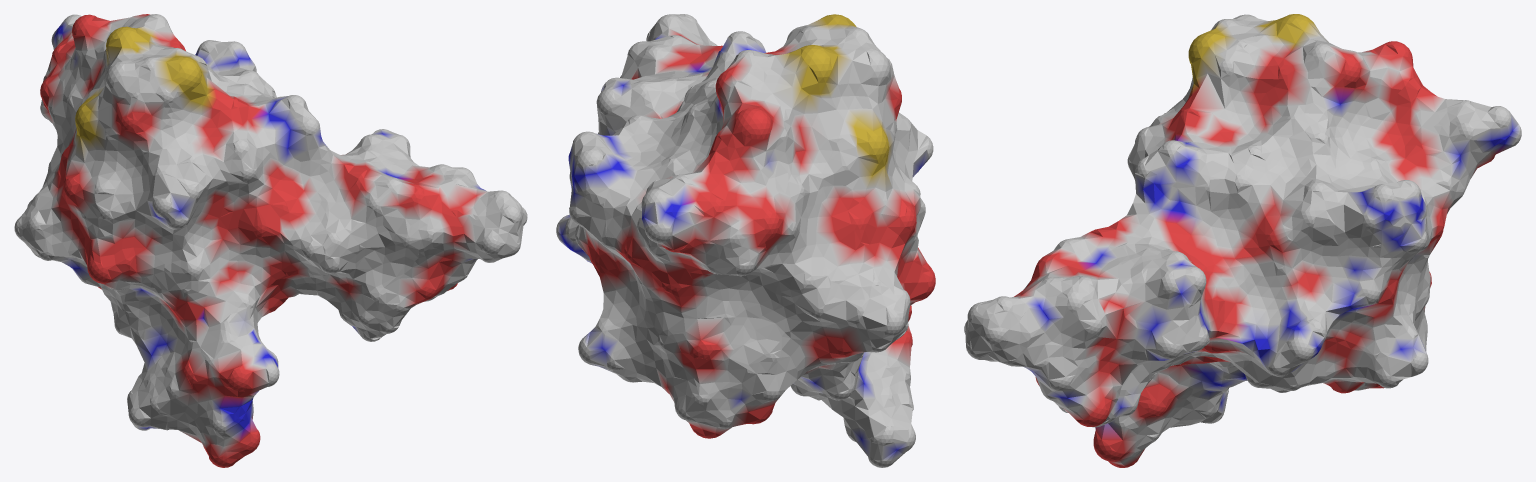
The model's file is MDB_2ky8_prot_surf_alone.dae.
3 views of the same model, side by side, from view 1: azimuth 30°, elevation 25°; view 2: azimuth 150°, elevation 25°; view 3: azimuth 270°, elevation 25° (orthographic). The views are drawn at different scales.
Visible parts, largest first — view 1: node; view 2: node; view 3: node.
Part boxes in pixels (left/top/right/bottom): node: left=14, top=14, right=527, bottom=467; node: left=556, top=14, right=935, bottom=467; node: left=964, top=14, right=1521, bottom=467.
Size of the model in its own units: 37.21 by 38.27 by 44.13.
